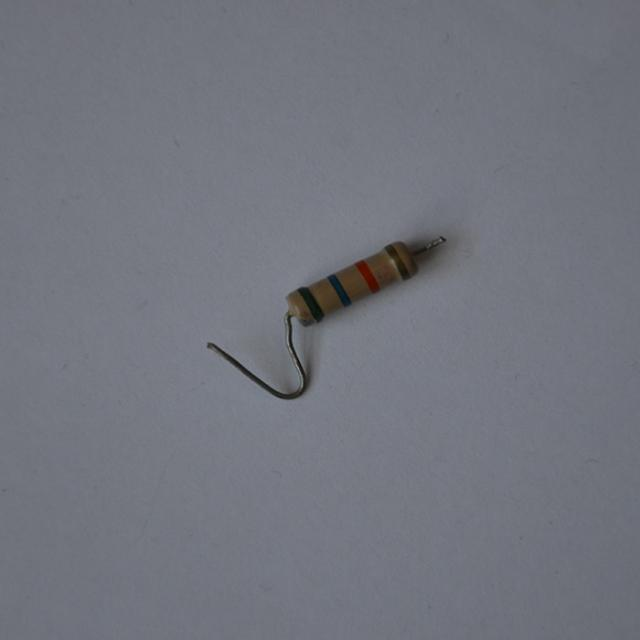blue: (326, 273, 351, 305)
gold: (385, 245, 408, 279)
green: (297, 286, 323, 321)
orange: (357, 260, 379, 290)
resistor: (266, 217, 441, 345)
